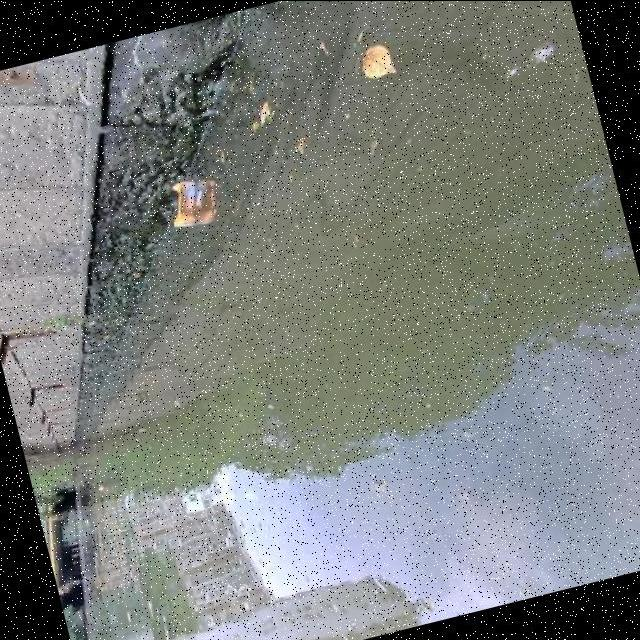Waste: (170, 176, 206, 233)
